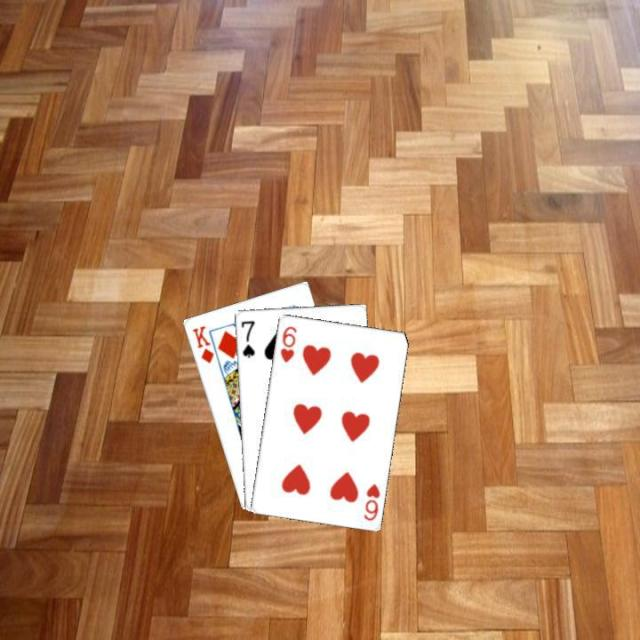6H: (359, 479, 381, 522), (276, 322, 298, 364)
7S: (236, 317, 256, 359)
KD: (189, 322, 215, 365)
